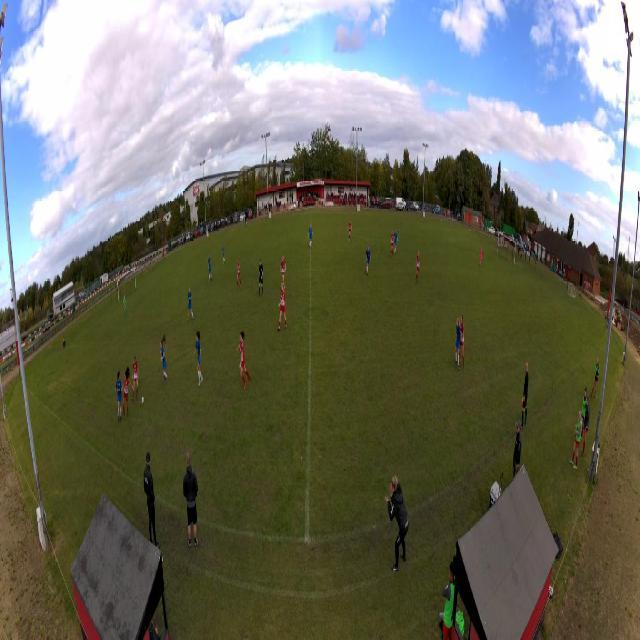ball: (142, 398, 145, 406)
player: (237, 330, 251, 390), (122, 362, 133, 419), (193, 330, 203, 388), (277, 281, 288, 333), (158, 335, 169, 382), (116, 370, 123, 422), (454, 318, 461, 368), (460, 311, 466, 369), (132, 357, 139, 404), (186, 286, 194, 326), (258, 259, 264, 299), (280, 255, 286, 292), (365, 245, 371, 277), (236, 258, 242, 289), (417, 248, 421, 282), (308, 222, 313, 248), (394, 226, 398, 256), (208, 253, 212, 281), (390, 230, 394, 257), (222, 243, 226, 268), (479, 245, 483, 269), (123, 292, 127, 316), (348, 219, 352, 240)
